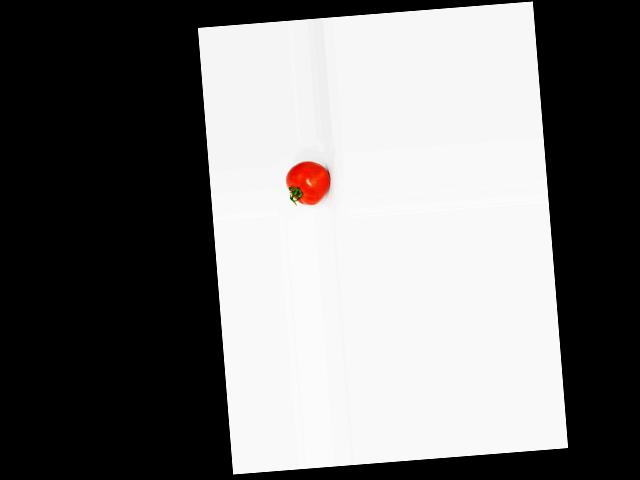tomato: (284, 159, 331, 206)
